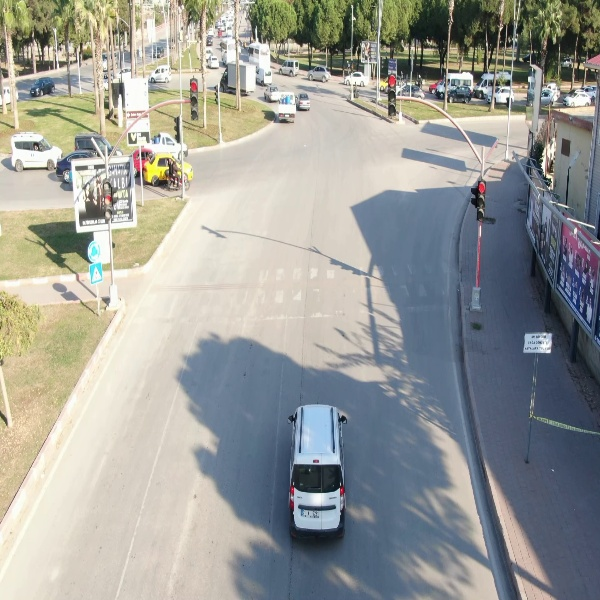car: (286, 402, 350, 541), (9, 131, 65, 174), (26, 73, 57, 99), (148, 62, 174, 87), (562, 89, 594, 109), (446, 85, 476, 105), (341, 68, 369, 88), (307, 65, 332, 84), (278, 58, 300, 78), (295, 92, 312, 112)
